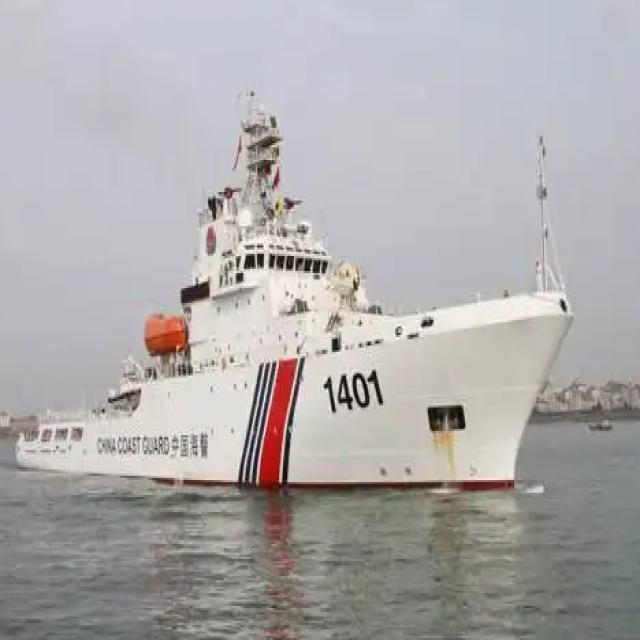fishing boat: (19, 99, 567, 492)
